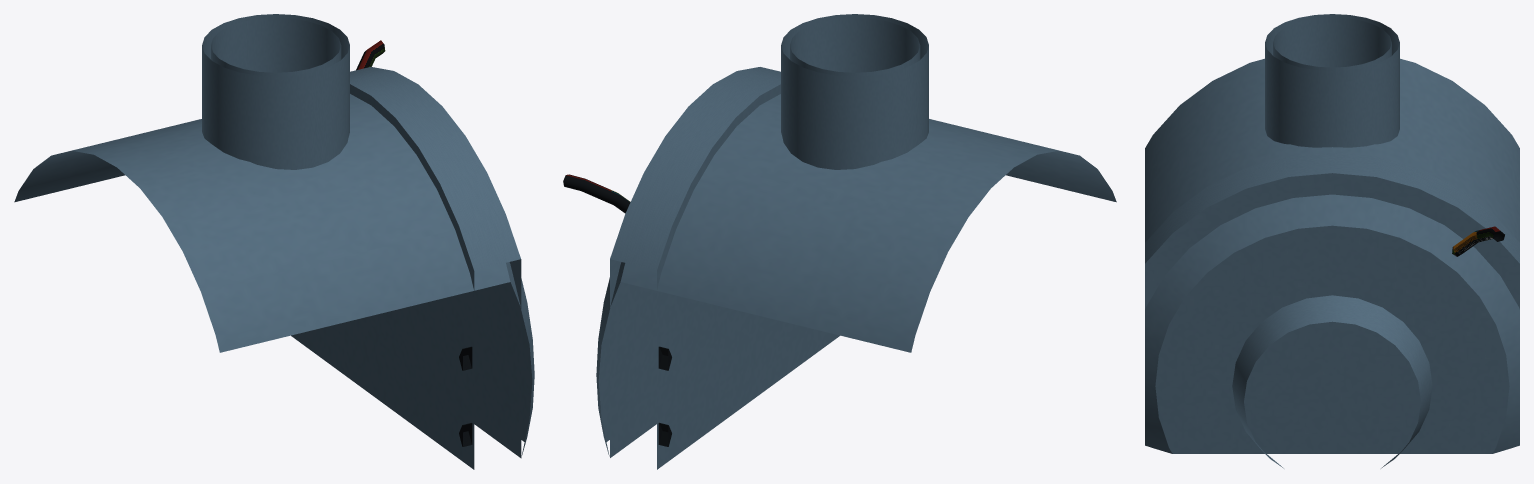
File: cell_30.obj
The picture shows the model from 3 angles, left to right: view 1: azimuth 30°, elevation 25°; view 2: azimuth 150°, elevation 25°; view 3: azimuth 270°, elevation 25°; orthographic projection. The views are drawn at different scales.
Visible parts, largest first — view 1: cell_30; view 2: cell_30; view 3: cell_30.
Boxes of the visible parts, <box> form: cell_30: <box>14,14,534,469</box>; cell_30: <box>563,14,1116,469</box>; cell_30: <box>1145,14,1519,468</box>.
Bounding box in the file's own units: 1 × 1 × 1.
